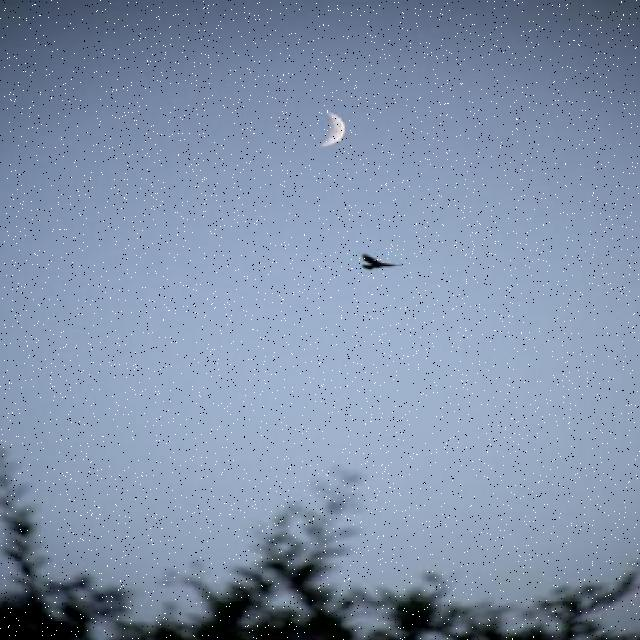bird: (360, 252, 402, 271)
